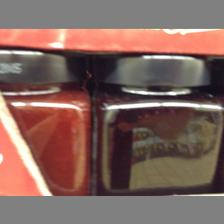jam: (91, 55, 224, 196), (1, 48, 93, 195)
